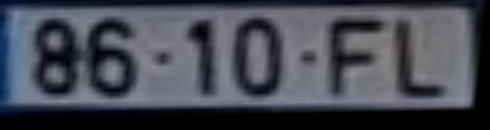0: (229, 14, 291, 104)
1: (180, 17, 224, 103)
6: (82, 15, 144, 103)
8: (29, 15, 85, 102)
F: (325, 17, 396, 105)
L: (389, 17, 454, 104)
